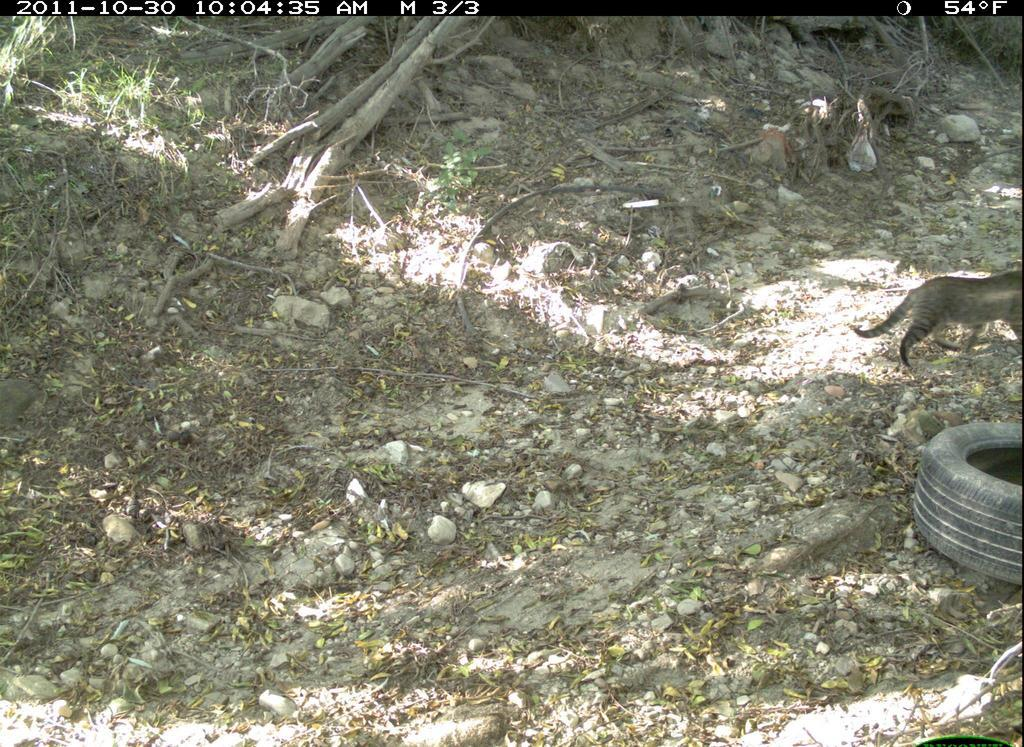cat: (848, 249, 1023, 372)
